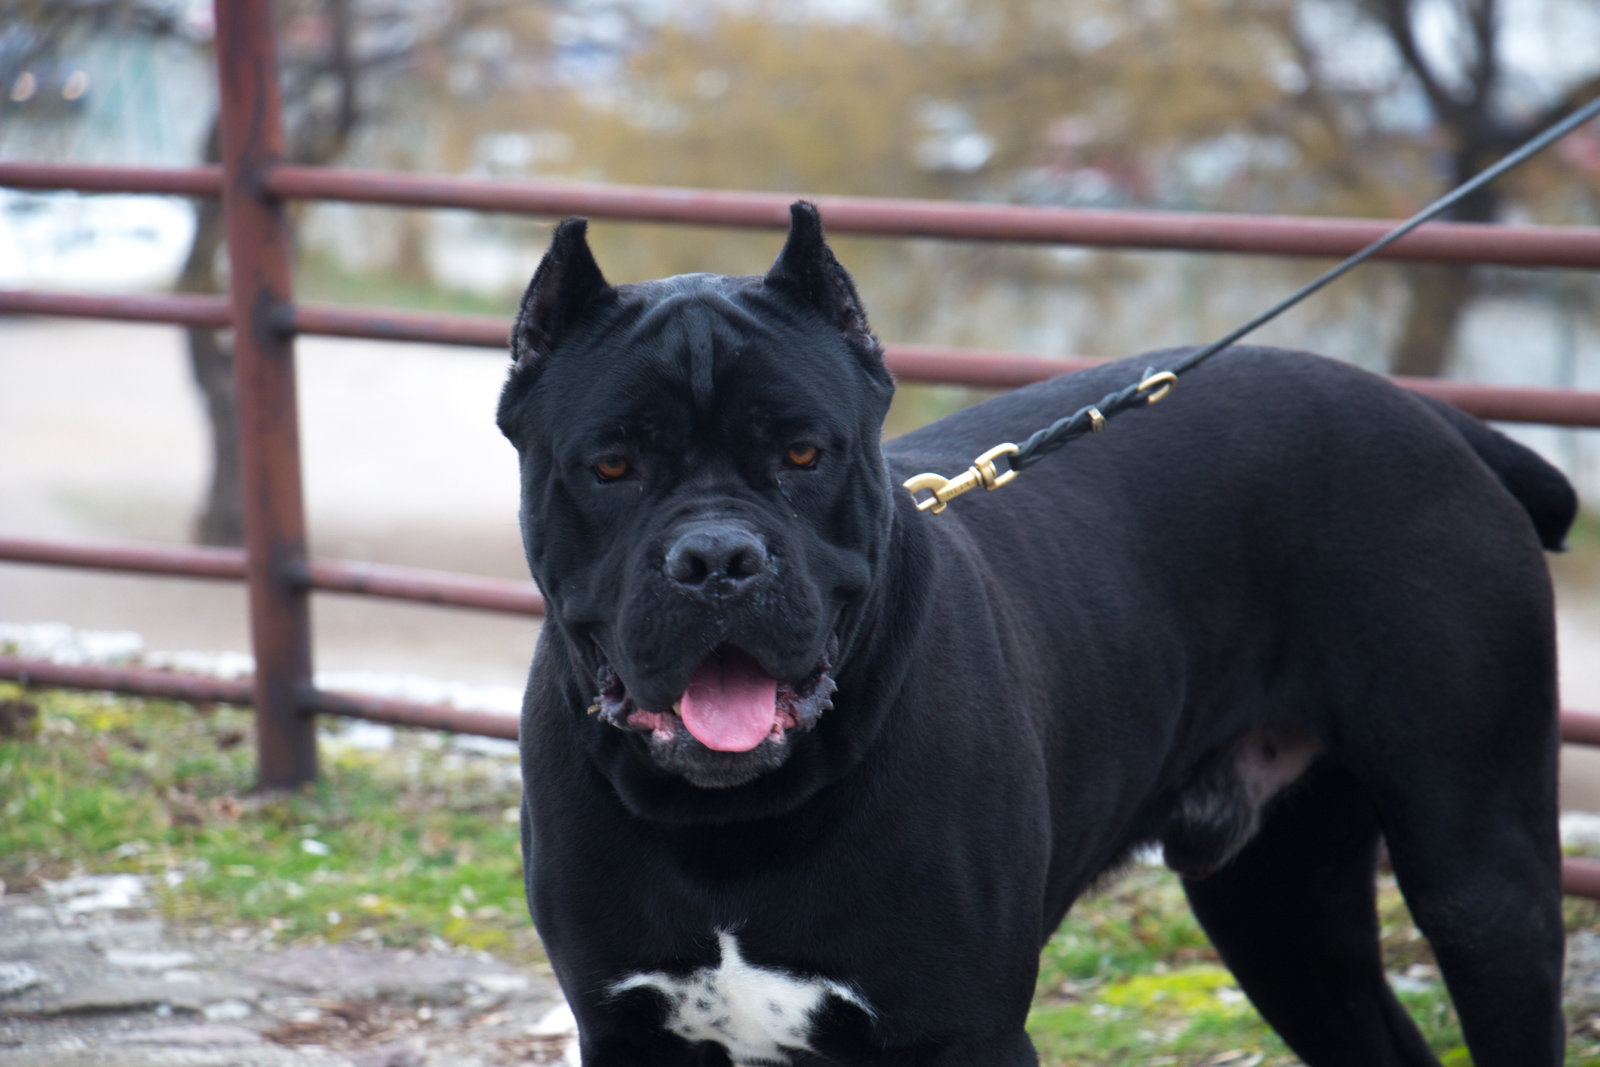staffordshire_bullterrier: (496, 198, 1582, 1067)
